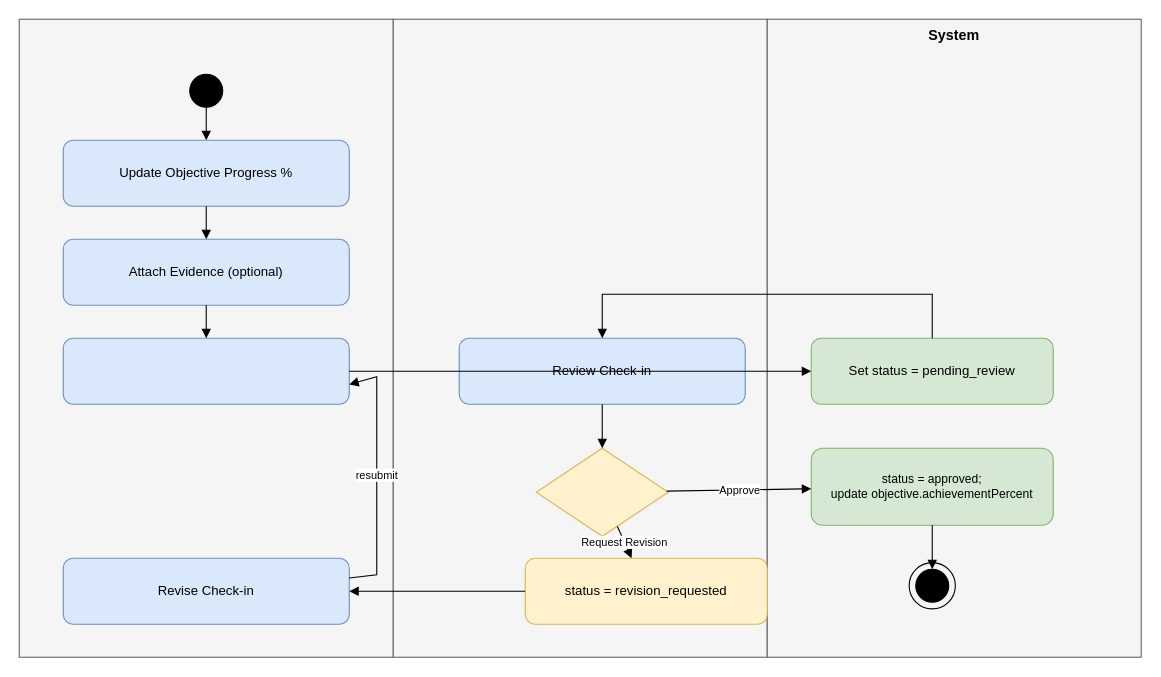
This 1161x677 diagram has some shape labels left out. Each missing label, with the box of its shape:
Collaborator: (18, 18, 393, 657)
Decision?: (535, 447, 668, 536)
Submit Check-in: (62, 337, 349, 404)
Team Leader: (392, 18, 767, 657)
